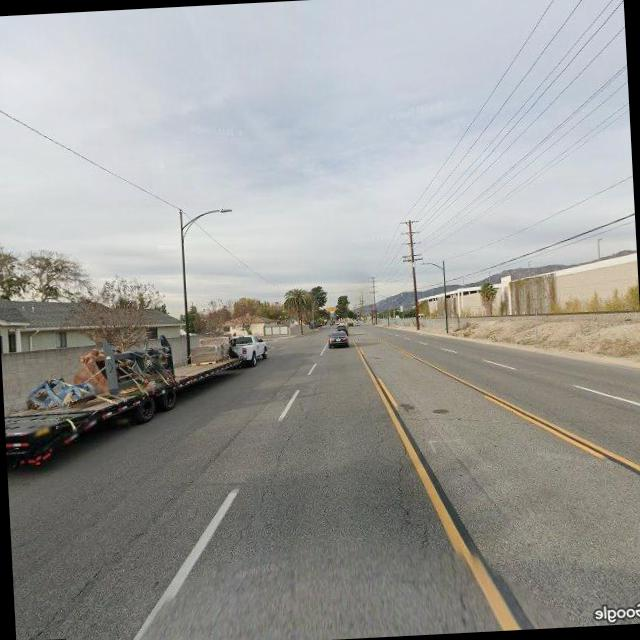pothole: (232, 404, 318, 546), (388, 422, 427, 538)
